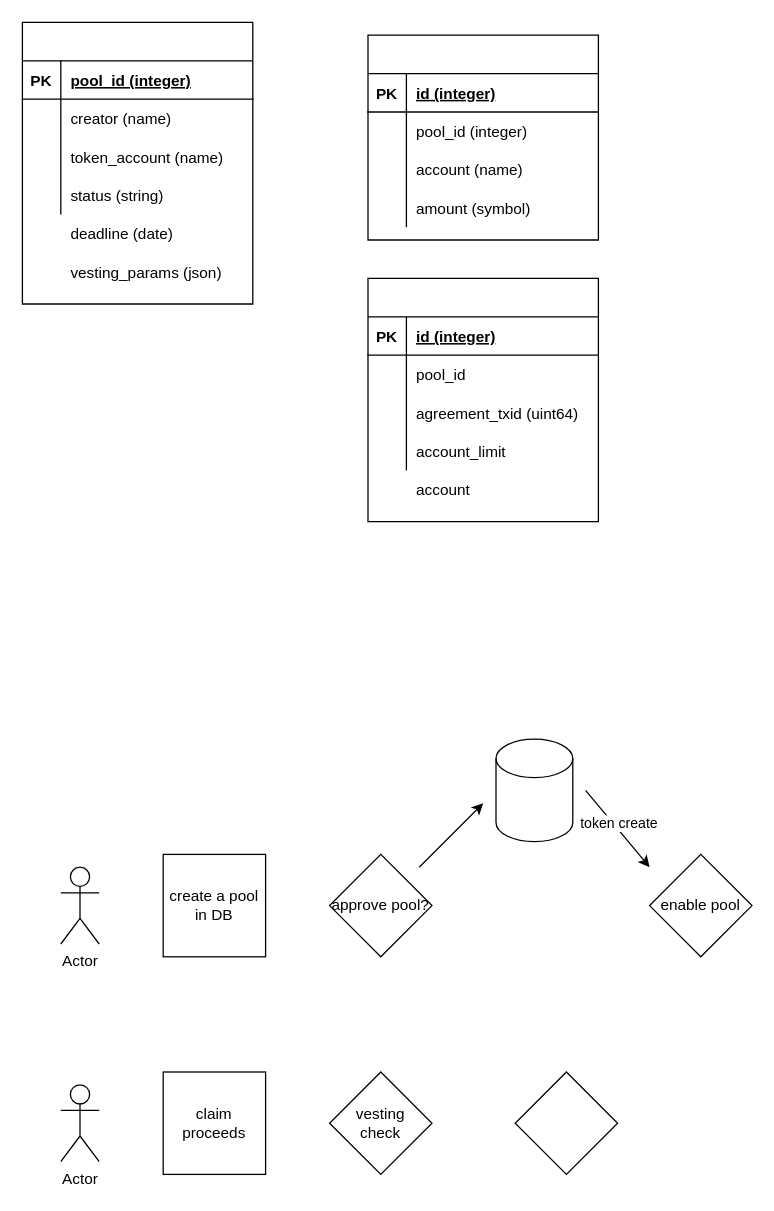
Image size: 774x1211. Some labels were removed from this diagram. Here are the shapes that lost their labels. From the top down, the box of each, then its label:
(367, 34, 598, 240): pool_subscriptions
(21, 21, 253, 304): pools
(367, 277, 598, 522): whitelist
(495, 738, 573, 842): smart contract deploy
